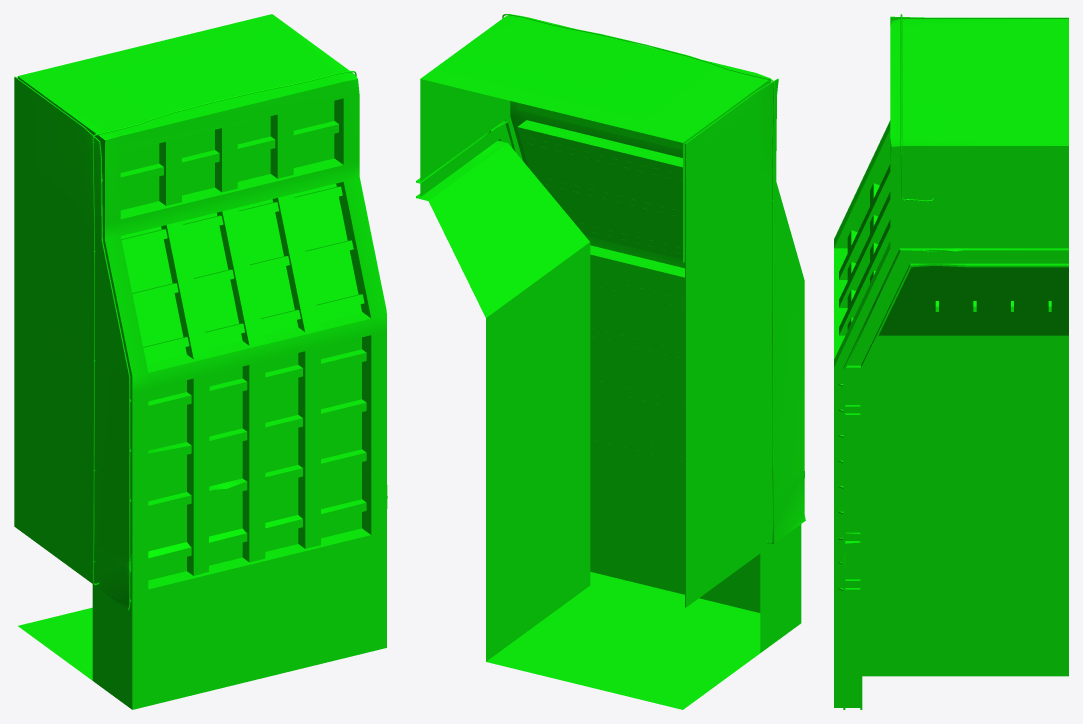
The model's file is Bof_PartLeft.fbx.
The picture shows the model from 3 angles, left to right: view 1: azimuth 30°, elevation 25°; view 2: azimuth 150°, elevation 25°; view 3: azimuth 270°, elevation 25°; orthographic projection. The views are drawn at different scales.
Visible parts, largest first — view 1: Bof_PartLeft; view 2: Bof_PartLeft; view 3: Bof_PartLeft.
Part boxes in pixels (x1,y1,x2,y2): Bof_PartLeft: [14, 14, 387, 709]; Bof_PartLeft: [416, 14, 805, 709]; Bof_PartLeft: [834, 14, 1068, 709].
Bounding box in the file's own units: 421 × 835 × 312.
